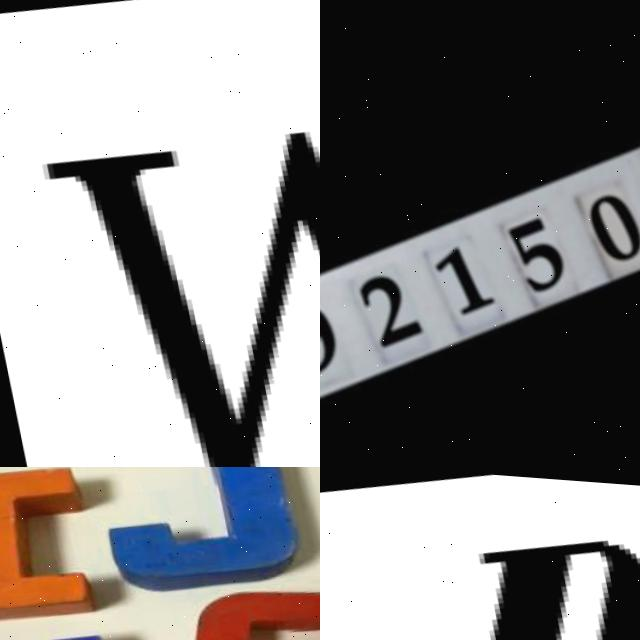0: (569, 168, 640, 270)
1: (417, 222, 499, 322)
2: (338, 246, 430, 358)
5: (491, 193, 577, 300)
9: (320, 277, 351, 387)
I: (0, 467, 99, 640)
J: (85, 467, 312, 599)
O: (165, 556, 320, 640)
R: (320, 492, 640, 640)
W: (22, 44, 320, 467)
